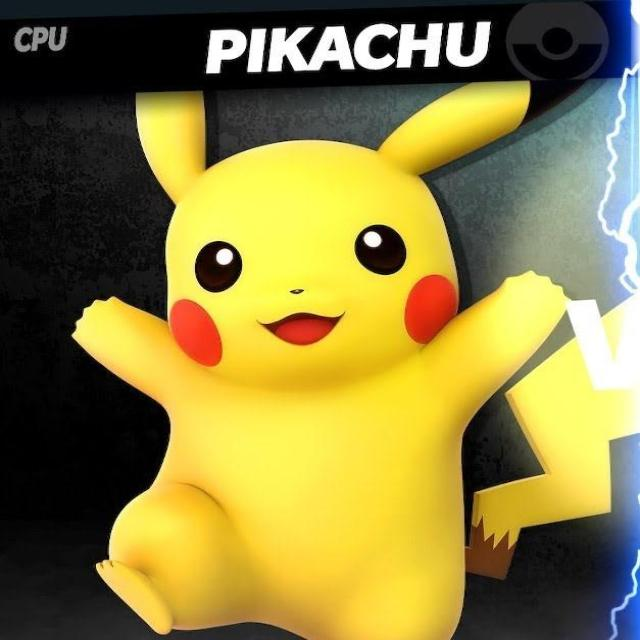pikachu: (70, 77, 639, 640)
